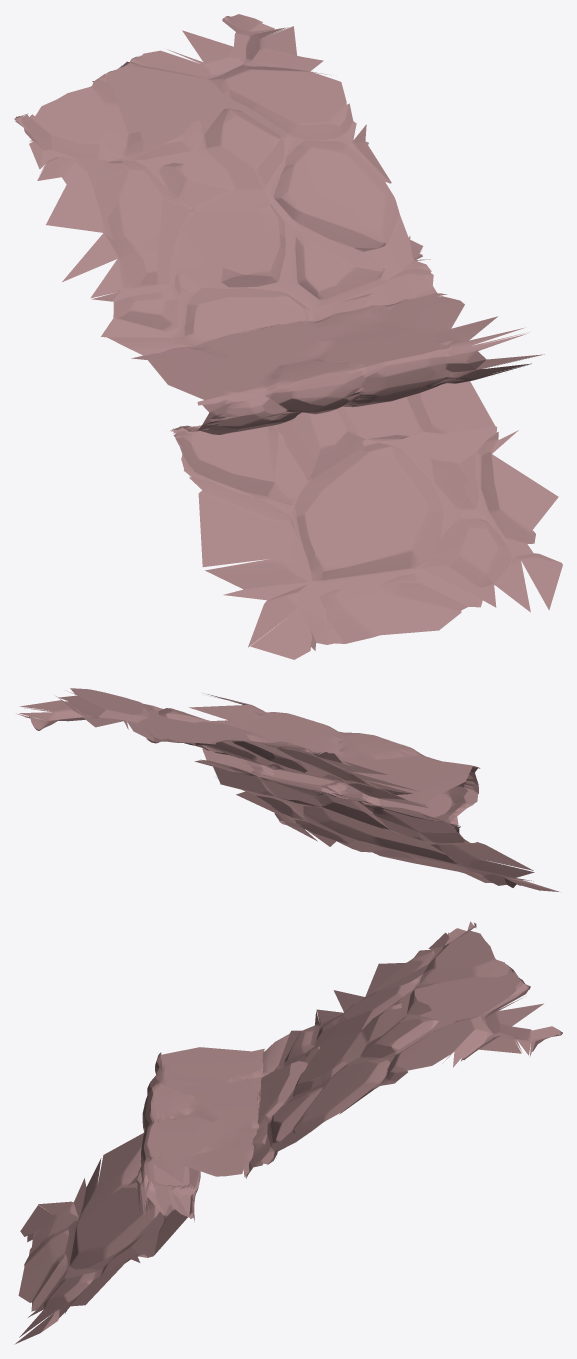
File: plateau.fbx_Rock_Plateau_024LODs.fbx
The picture shows the model from 3 angles, top to bottom: view 1: azimuth 30°, elevation 25°; view 2: azimuth 150°, elevation 25°; view 3: azimuth 270°, elevation 25°; orthographic projection. The views are drawn at different scales.
Visible parts, largest first — view 1: Rock Plateau.024_LOD0; view 2: Rock Plateau.024_LOD0; view 3: Rock Plateau.024_LOD0.
Part boxes in pixels (x1=…): Rock Plateau.024_LOD0: x1=14, y1=14, x2=562, y2=659; Rock Plateau.024_LOD0: x1=16, y1=688, x2=559, y2=891; Rock Plateau.024_LOD0: x1=14, y1=921, x2=562, y2=1344.
Size of what is drawn, in the model's own units: 3295 by 3127 by 4911.
